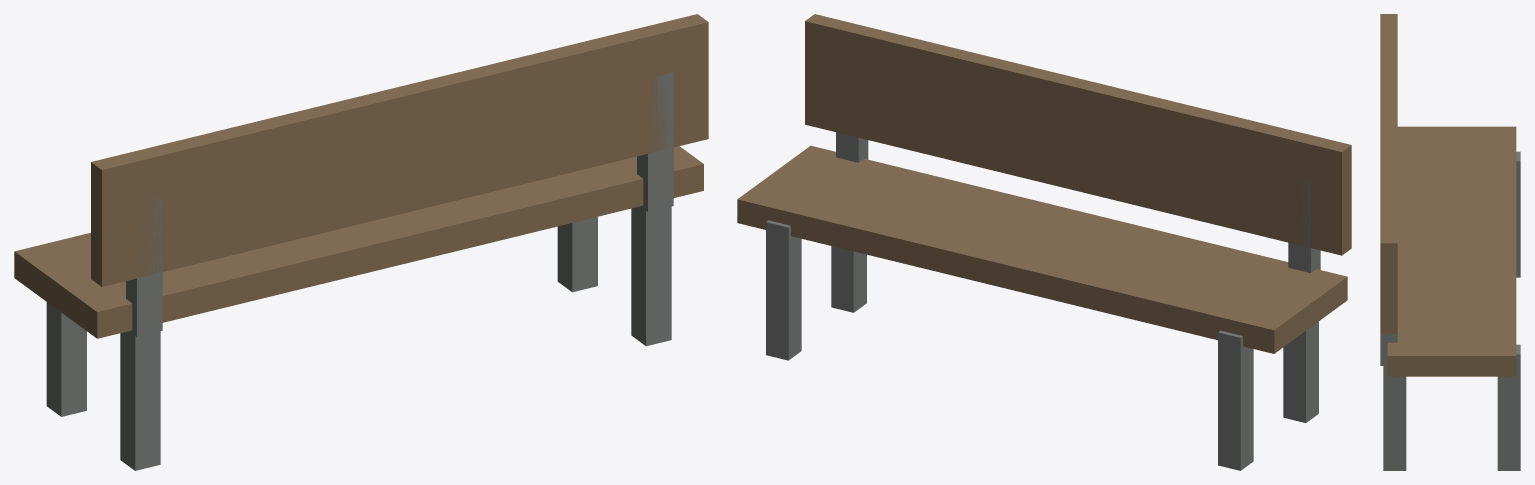
The model's file is p_bench.glb.
The picture shows the model from 3 angles, left to right: view 1: azimuth 30°, elevation 25°; view 2: azimuth 150°, elevation 25°; view 3: azimuth 270°, elevation 25°; orthographic projection. The views are drawn at different scales.
Visible parts, largest first — view 1: body; view 2: body; view 3: body.
Boxes of the visible parts, x1,y1,x2,y2 form: body: [14, 14, 708, 470]; body: [737, 14, 1351, 470]; body: [1380, 14, 1520, 470].
Bounding box in the file's own units: 1.9 × 0.93 × 0.49.
